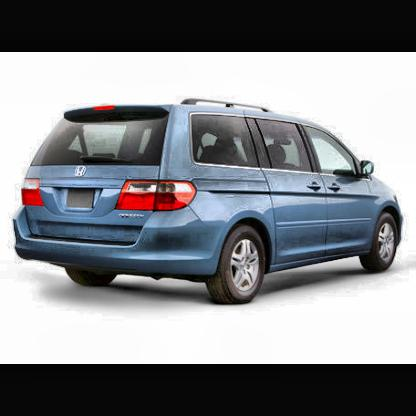Honda Odyssey Minivan 2007: (14, 100, 405, 304)
